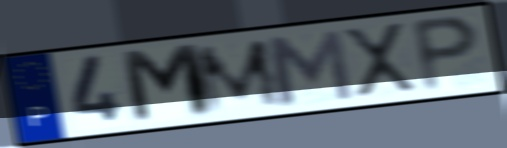4: (70, 51, 131, 130)
M: (117, 41, 219, 127), (261, 27, 357, 108), (192, 36, 286, 117)
P: (409, 13, 483, 96)
X: (339, 20, 421, 102)
